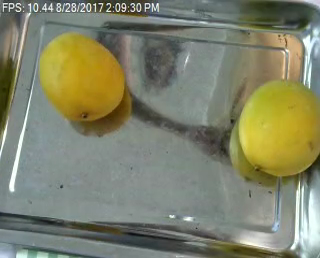Mango: (238, 79, 320, 176), (38, 31, 123, 121)
